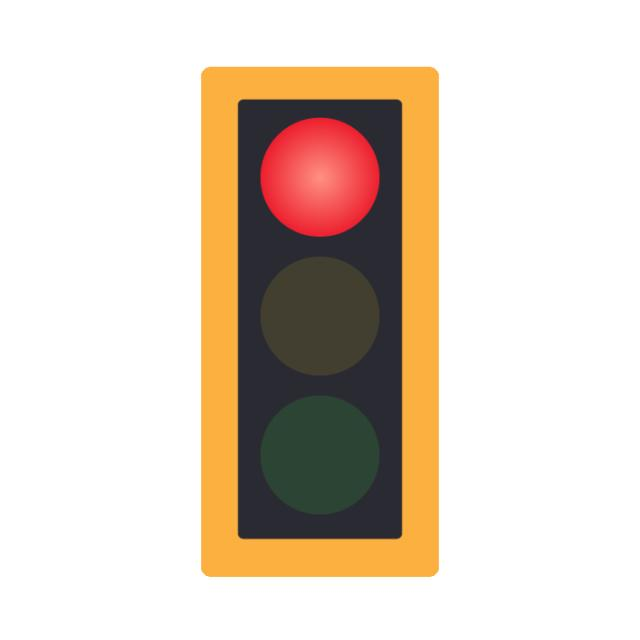red: (255, 116, 389, 241)
